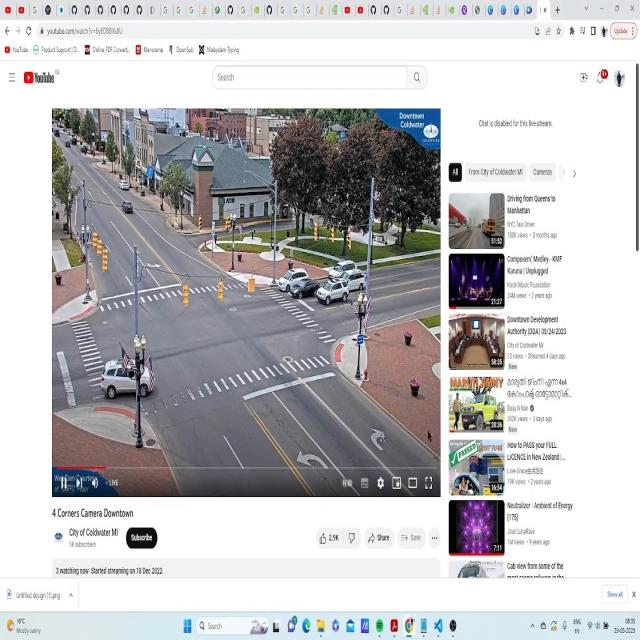car: (318, 280, 350, 307)
